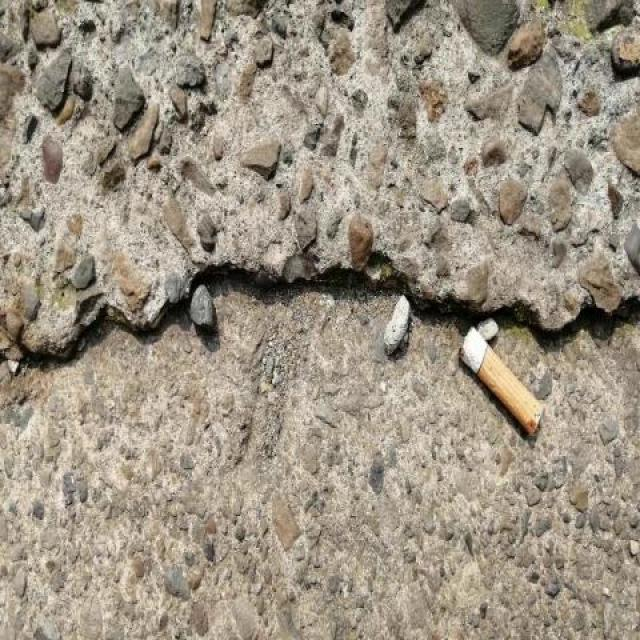non-organic waste: (455, 324, 550, 441)
